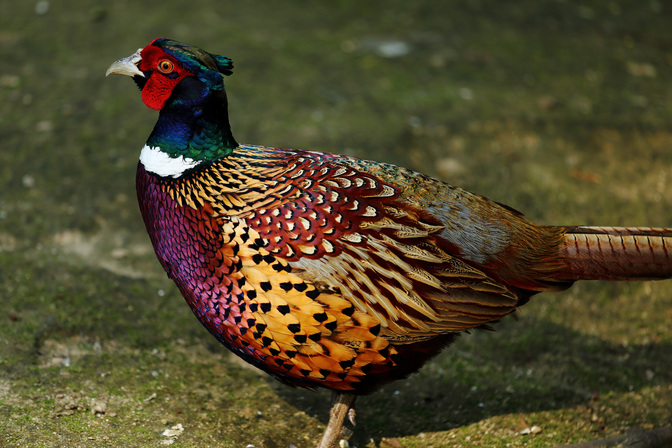pheasant: (104, 31, 662, 422)
